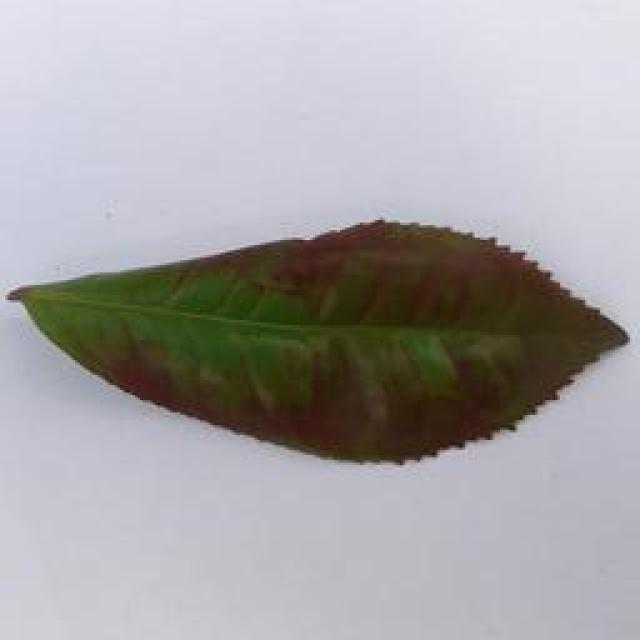Red Leaf Spot: (0, 189, 638, 496)
